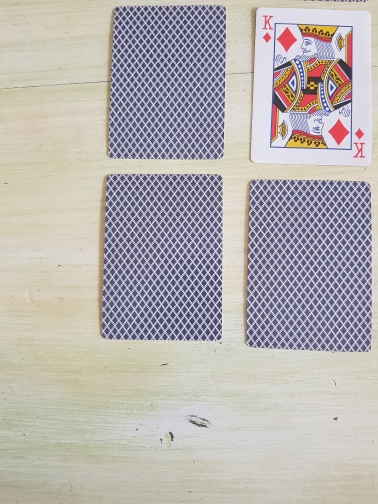king: (249, 7, 374, 166)
